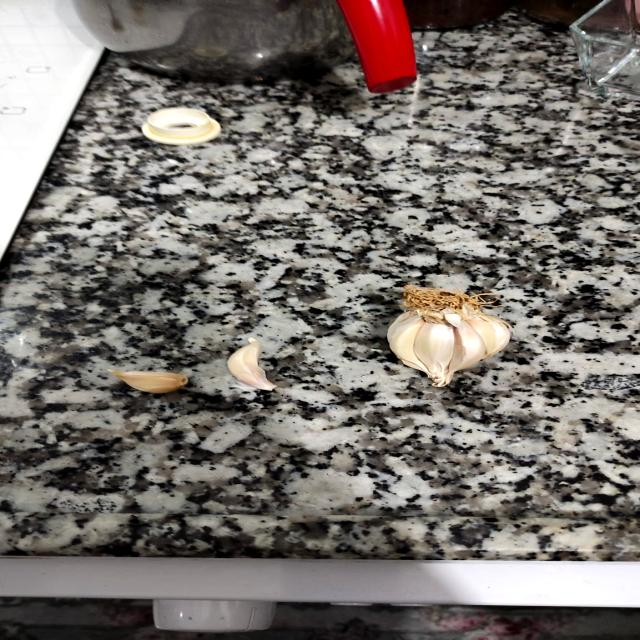garlic: (357, 276, 537, 391), (216, 328, 292, 397), (98, 357, 202, 400)
